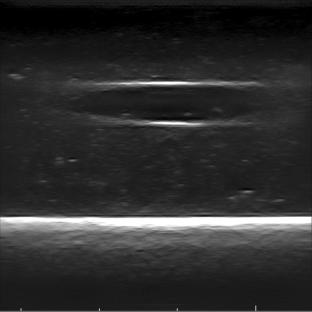vessel: (76, 80, 263, 129)
